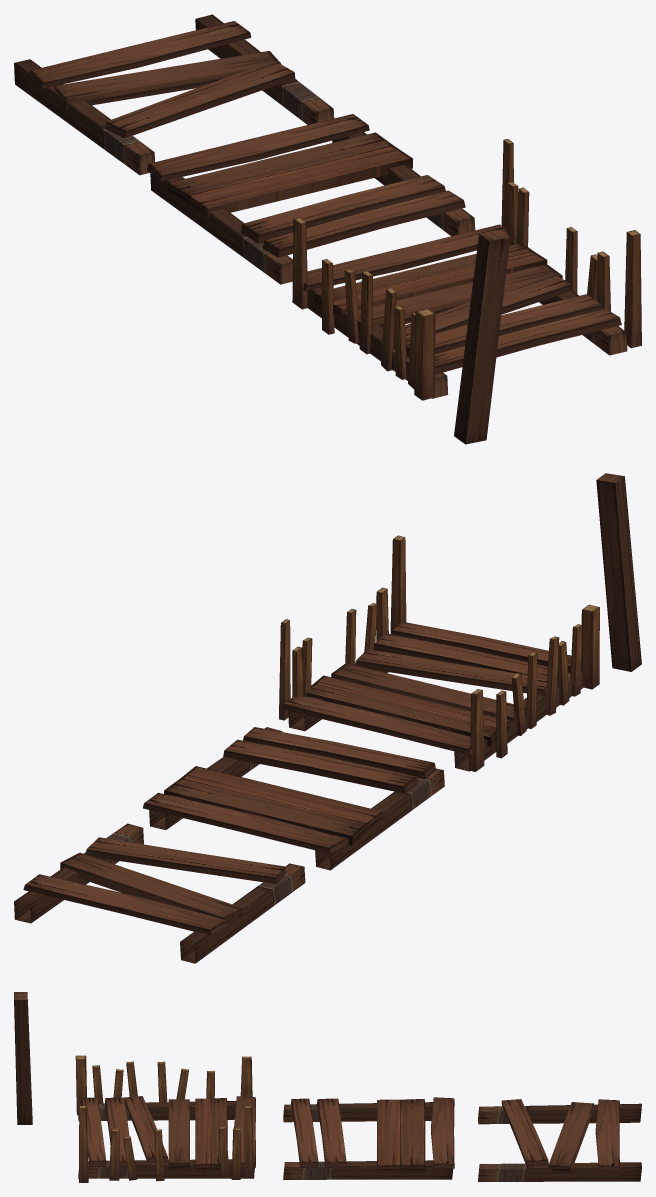
File: 2_YiZhan_ZhiQiao_01.FBX
3 renders of one model, top to bottom at view 1: azimuth 30°, elevation 25°; view 2: azimuth 150°, elevation 25°; view 3: azimuth 270°, elevation 25°, orthographic. The views are drawn at different scales.
Visible parts, largest first — view 1: 2_YiZhan_ZhiQiao_01_03, 2_YiZhan_ZhiQiao_01_01, 2_YiZhan_ZhiQiao_01_04, 2_YiZhan_ZhiQiao_01_02, 2_YiZhan_ZhiQiao_01_05, 2_YiZhan_ZhiQiao_01_06; view 2: 2_YiZhan_ZhiQiao_01_03, 2_YiZhan_ZhiQiao_01_01, 2_YiZhan_ZhiQiao_01_04, 2_YiZhan_ZhiQiao_01_02, 2_YiZhan_ZhiQiao_01_05, 2_YiZhan_ZhiQiao_01_06; view 3: 2_YiZhan_ZhiQiao_01_03, 2_YiZhan_ZhiQiao_01_01, 2_YiZhan_ZhiQiao_01_04, 2_YiZhan_ZhiQiao_01_06, 2_YiZhan_ZhiQiao_01_02, 2_YiZhan_ZhiQiao_01_05.
Boxes of the visible parts, bbox=[...] form: 2_YiZhan_ZhiQiao_01_03: bbox=[147, 114, 475, 284]; 2_YiZhan_ZhiQiao_01_01: bbox=[303, 224, 627, 398]; 2_YiZhan_ZhiQiao_01_04: bbox=[14, 14, 334, 175]; 2_YiZhan_ZhiQiao_01_02: bbox=[292, 217, 435, 400]; 2_YiZhan_ZhiQiao_01_05: bbox=[454, 230, 510, 444]; 2_YiZhan_ZhiQiao_01_06: bbox=[501, 139, 641, 348]; 2_YiZhan_ZhiQiao_01_03: bbox=[143, 727, 444, 870]; 2_YiZhan_ZhiQiao_01_01: bbox=[282, 621, 583, 771]; 2_YiZhan_ZhiQiao_01_04: bbox=[14, 823, 305, 963]; 2_YiZhan_ZhiQiao_01_02: bbox=[470, 604, 599, 771]; 2_YiZhan_ZhiQiao_01_05: bbox=[596, 473, 641, 671]; 2_YiZhan_ZhiQiao_01_06: bbox=[279, 535, 406, 720]; 2_YiZhan_ZhiQiao_01_03: bbox=[283, 1097, 454, 1179]; 2_YiZhan_ZhiQiao_01_01: bbox=[78, 1096, 255, 1178]; 2_YiZhan_ZhiQiao_01_04: bbox=[478, 1099, 641, 1181]; 2_YiZhan_ZhiQiao_01_06: bbox=[79, 1105, 254, 1182]; 2_YiZhan_ZhiQiao_01_02: bbox=[75, 1055, 252, 1115]; 2_YiZhan_ZhiQiao_01_05: bbox=[14, 992, 32, 1124].
Bounding box in the file's own units: 299 × 255 × 1090.
1 material, 1 textured.
